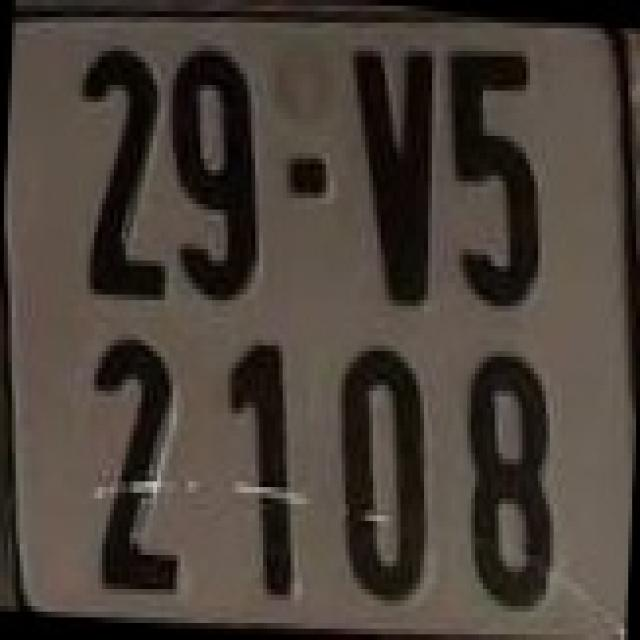0: (332, 337, 438, 603)
1: (220, 332, 310, 604)
2: (84, 326, 190, 598), (74, 39, 172, 306)
5: (444, 42, 550, 308)
8: (462, 346, 560, 612)
9: (169, 39, 271, 306)
V: (348, 39, 442, 306)
